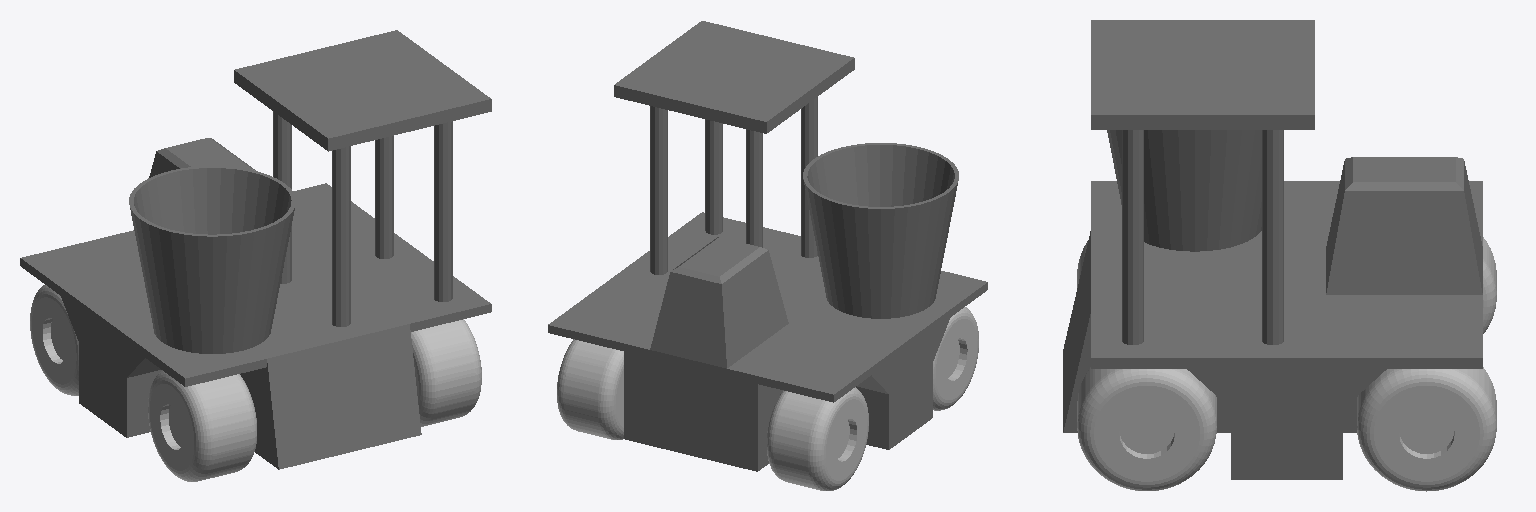
robot.urdf — RobotNurse.URDF:
<?xml version="1.0" encoding="utf-8"?>
<!-- This URDF was automatically created by SolidWorks to URDF Exporter! Originally created by [author] ([email redacted]) 
     Commit Version: 1.6.0-1-g15f4949  Build Version: 1.6.7594.29634
     For more information, please see http://wiki.ros.org/sw_urdf_exporter -->
<robot
  name="RobotNurse.URDF">
  <link
    name="Base">
    <inertial>
      <origin
        xyz="0.0059896 -0.0060026 0.18249"
        rpy="0 0 0" />
      <mass
        value="106.13" />
      <inertia
        ixx="4.5366"
        ixy="-0.0098481"
        ixz="-0.0090919"
        iyy="3.8"
        iyz="-0.36746"
        izz="6.4662" />
    </inertial>
    <visual>
      <origin
        xyz="0 0 0"
        rpy="0 0 0" />
      <geometry>
        <mesh
          filename="package://RobotNurse.URDF/meshes/Base.STL" />
      </geometry>
      <material
        name="">
        <color
          rgba="0.50196 0.50196 0.50196 1" />
      </material>
    </visual>
    <collision>
      <origin
        xyz="0 0 0"
        rpy="0 0 0" />
      <geometry>
        <mesh
          filename="package://RobotNurse.URDF/meshes/Base.STL" />
      </geometry>
    </collision>
  </link>
  <link
    name="w1">
    <inertial>
      <origin
        xyz="0.0745364696784733 0 0"
        rpy="0 0 0" />
      <mass
        value="6.77753430076086" />
      <inertia
        ixx="0.0532193232995392"
        ixy="-7.47452511341425E-35"
        ixz="-1.41699728574879E-19"
        iyy="0.0380198317305351"
        iyz="-2.9562149404489E-36"
        izz="0.0380198317305351" />
    </inertial>
    <visual>
      <origin
        xyz="0 0 0"
        rpy="0 0 0" />
      <geometry>
        <mesh
          filename="package://RobotNurse.URDF/meshes/w1.STL" />
      </geometry>
      <material
        name="">
        <color
          rgba="0.752941176470588 0.752941176470588 0.752941176470588 1" />
      </material>
    </visual>
    <collision>
      <origin
        xyz="0 0 0"
        rpy="0 0 0" />
      <geometry>
        <mesh
          filename="package://RobotNurse.URDF/meshes/w1.STL" />
      </geometry>
    </collision>
  </link>
  <joint
    name="w1"
    type="continuous">
    <origin
      xyz="0.2 -0.25 0.08"
      rpy="1.5707963267949 0 0" />
    <parent
      link="Base" />
    <child
      link="w1" />
    <axis
      xyz="1 0 0" />
  </joint>
  <link
    name="w2">
    <inertial>
      <origin
        xyz="0.0745364696784733 0 0"
        rpy="0 0 0" />
      <mass
        value="6.77753430076086" />
      <inertia
        ixx="0.0532193232995392"
        ixy="-7.47452511341425E-35"
        ixz="-1.1504636638225E-19"
        iyy="0.0380198317305351"
        iyz="-2.9562149404489E-36"
        izz="0.0380198317305351" />
    </inertial>
    <visual>
      <origin
        xyz="0 0 0"
        rpy="0 0 0" />
      <geometry>
        <mesh
          filename="package://RobotNurse.URDF/meshes/w2.STL" />
      </geometry>
      <material
        name="">
        <color
          rgba="0.752941176470588 0.752941176470588 0.752941176470588 1" />
      </material>
    </visual>
    <collision>
      <origin
        xyz="0 0 0"
        rpy="0 0 0" />
      <geometry>
        <mesh
          filename="package://RobotNurse.URDF/meshes/w2.STL" />
      </geometry>
    </collision>
  </link>
  <joint
    name="w2"
    type="continuous">
    <origin
      xyz="0.2 0.25 0.08"
      rpy="1.5707963267949 0 0" />
    <parent
      link="Base" />
    <child
      link="w2" />
    <axis
      xyz="1 0 0" />
  </joint>
  <link
    name="w3">
    <inertial>
      <origin
        xyz="0.0745364696784733 0 0"
        rpy="0 0 0" />
      <mass
        value="6.77753430076086" />
      <inertia
        ixx="0.0532193232995393"
        ixy="-1.39685299760028E-19"
        ixz="9.07441870162449E-21"
        iyy="0.0380198317305351"
        iyz="0"
        izz="0.0380198317305351" />
    </inertial>
    <visual>
      <origin
        xyz="0 0 0"
        rpy="0 0 0" />
      <geometry>
        <mesh
          filename="package://RobotNurse.URDF/meshes/w3.STL" />
      </geometry>
      <material
        name="">
        <color
          rgba="0.752941176470588 0.752941176470588 0.752941176470588 1" />
      </material>
    </visual>
    <collision>
      <origin
        xyz="0 0 0"
        rpy="0 0 0" />
      <geometry>
        <mesh
          filename="package://RobotNurse.URDF/meshes/w3.STL" />
      </geometry>
    </collision>
  </link>
  <joint
    name="w3"
    type="continuous">
    <origin
      xyz="-0.2 0.25 0.08"
      rpy="2.97658962801217 0 3.14159265358979" />
    <parent
      link="Base" />
    <child
      link="w3" />
    <axis
      xyz="1 0 0" />
  </joint>
  <link
    name="w4">
    <inertial>
      <origin
        xyz="0.0745364696784733 0 0"
        rpy="0 0 0" />
      <mass
        value="6.77753430076086" />
      <inertia
        ixx="0.0532193232995393"
        ixy="1.80265177208369E-19"
        ixz="-1.30020618491162E-18"
        iyy="0.0380198317305351"
        iyz="-4.33680868994202E-19"
        izz="0.0380198317305351" />
    </inertial>
    <visual>
      <origin
        xyz="0 0 0"
        rpy="0 0 0" />
      <geometry>
        <mesh
          filename="package://RobotNurse.URDF/meshes/w4.STL" />
      </geometry>
      <material
        name="">
        <color
          rgba="0.752941176470588 0.752941176470588 0.752941176470588 1" />
      </material>
    </visual>
    <collision>
      <origin
        xyz="0 0 0"
        rpy="0 0 0" />
      <geometry>
        <mesh
          filename="package://RobotNurse.URDF/meshes/w4.STL" />
      </geometry>
    </collision>
  </link>
  <joint
    name="w4"
    type="continuous">
    <origin
      xyz="-0.2 -0.25 0.08"
      rpy="2.97658962801217 0 3.14159265358979" />
    <parent
      link="Base" />
    <child
      link="w4" />
    <axis
      xyz="1 0 0" />
  </joint>
</robot>

--- What the picture shows (computed from the rendered views, not written in the file) ---
3 views of the same robot in one strip: view 1: azimuth 30°, elevation 25°; view 2: azimuth 150°, elevation 25°; view 3: azimuth 270°, elevation 25° (orthographic).
Model RobotNurse.URDF with 5 links and 4 joints (4 continuous), rooted at Base, posed every joint at zero.
Links seen in each view (by area): view 1: Base, w4, w1, w3; view 2: Base, w3, w2, w4; view 3: Base, w2, w1, w3.
Link boxes in pixels (left/top/right/bottom): Base: left=20, top=30, right=491, bottom=469; w4: left=148, top=371, right=256, bottom=481; w1: left=411, top=319, right=481, bottom=426; w3: left=30, top=285, right=78, bottom=395; Base: left=548, top=21, right=987, bottom=471; w3: left=767, top=387, right=868, bottom=490; w2: left=557, top=339, right=623, bottom=439; w4: left=933, top=307, right=978, bottom=410; Base: left=1063, top=20, right=1482, bottom=479; w2: left=1357, top=367, right=1496, bottom=491; w1: left=1077, top=367, right=1216, bottom=490; w3: left=1483, top=237, right=1496, bottom=333.
Bounding box of the posed robot: 0.7544 × 0.775 × 0.765 m (x, y, z).
Meshes: 5 distinct files referenced, 5 mesh visuals loaded (5 binary STL).